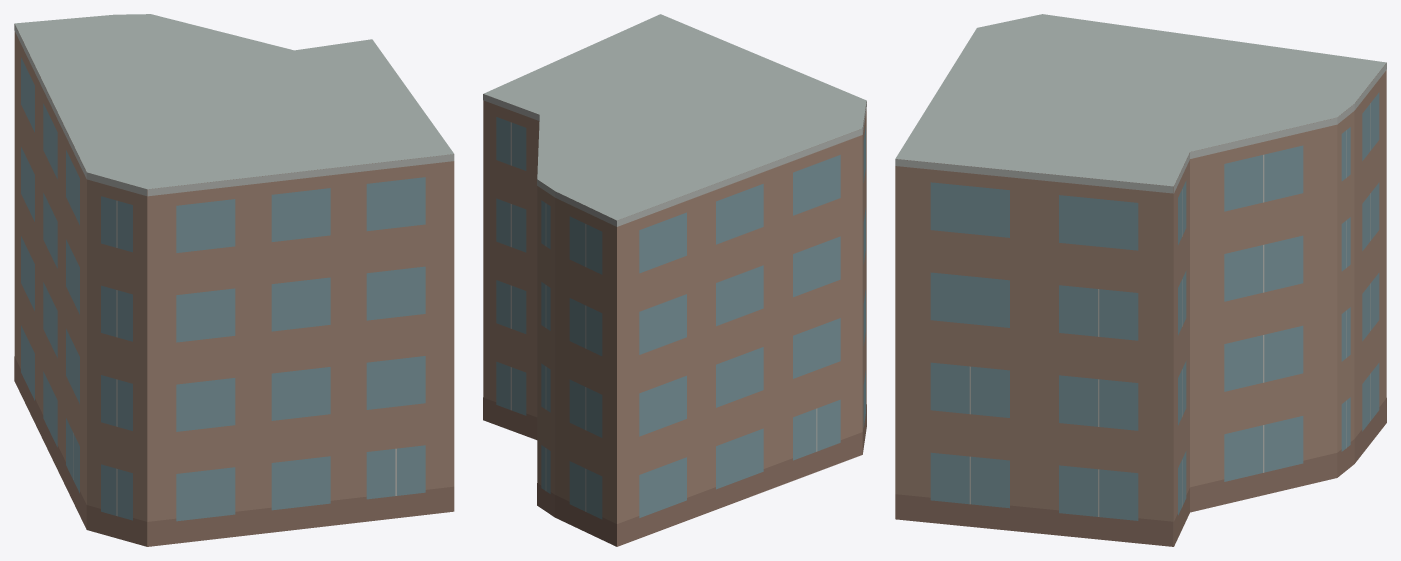
The model's file is survey-upis-32867919.glb.
3 renders of one model, left to right at view 1: azimuth 30°, elevation 25°; view 2: azimuth 150°, elevation 25°; view 3: azimuth 270°, elevation 25°, orthographic. The views are drawn at different scales.
Parts seen in each view (by area): view 1: survey-upis-32867919.tmp; view 2: survey-upis-32867919.tmp; view 3: survey-upis-32867919.tmp.
Boxes of the visible parts, box(x1,y1,x2,y2) form: survey-upis-32867919.tmp: box(14, 14, 454, 546); survey-upis-32867919.tmp: box(483, 14, 866, 546); survey-upis-32867919.tmp: box(895, 14, 1386, 546).
Bounding box in the file's own units: 12.68 × 12.35 × 15.27.
